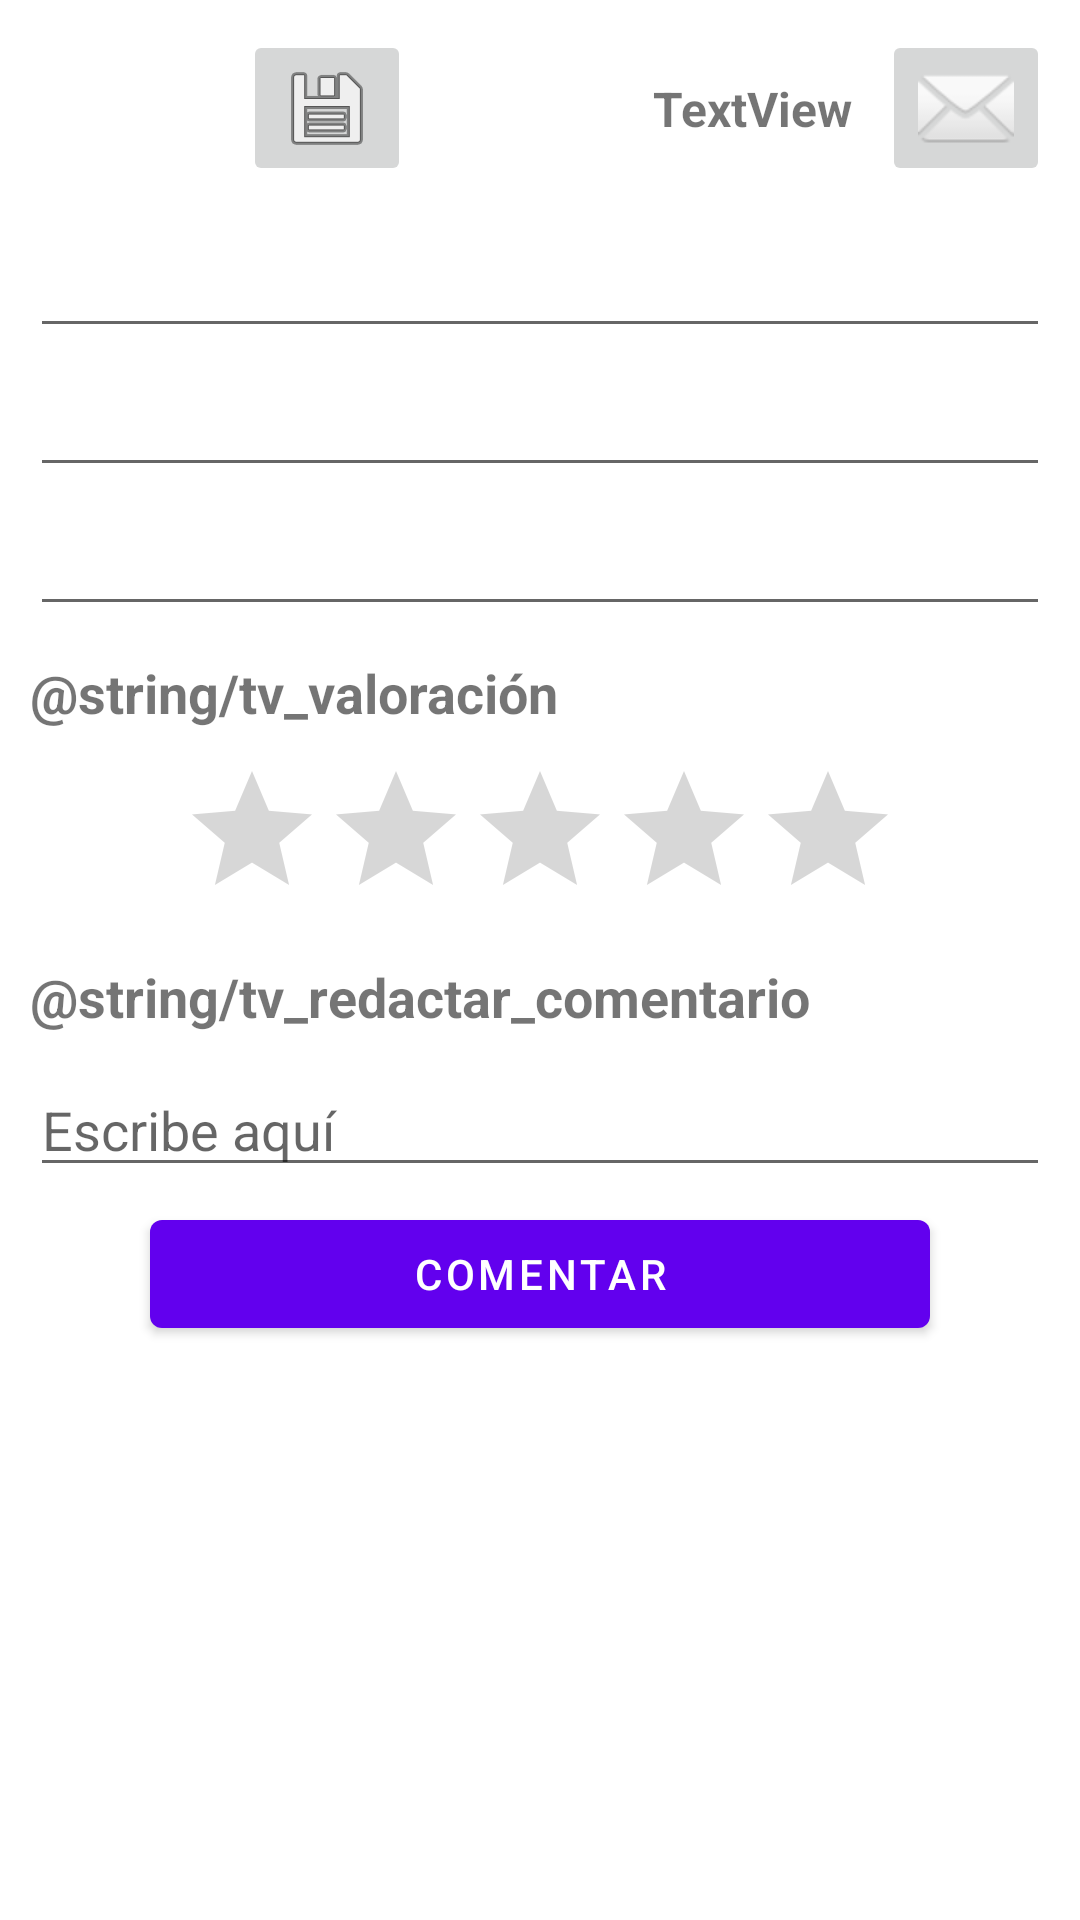

Icons on this 1080px x 1920px Android screen, each with its box as [x1,y1,x2,y2]:
email: [894,48,1038,168]
save: [255,48,399,168]
